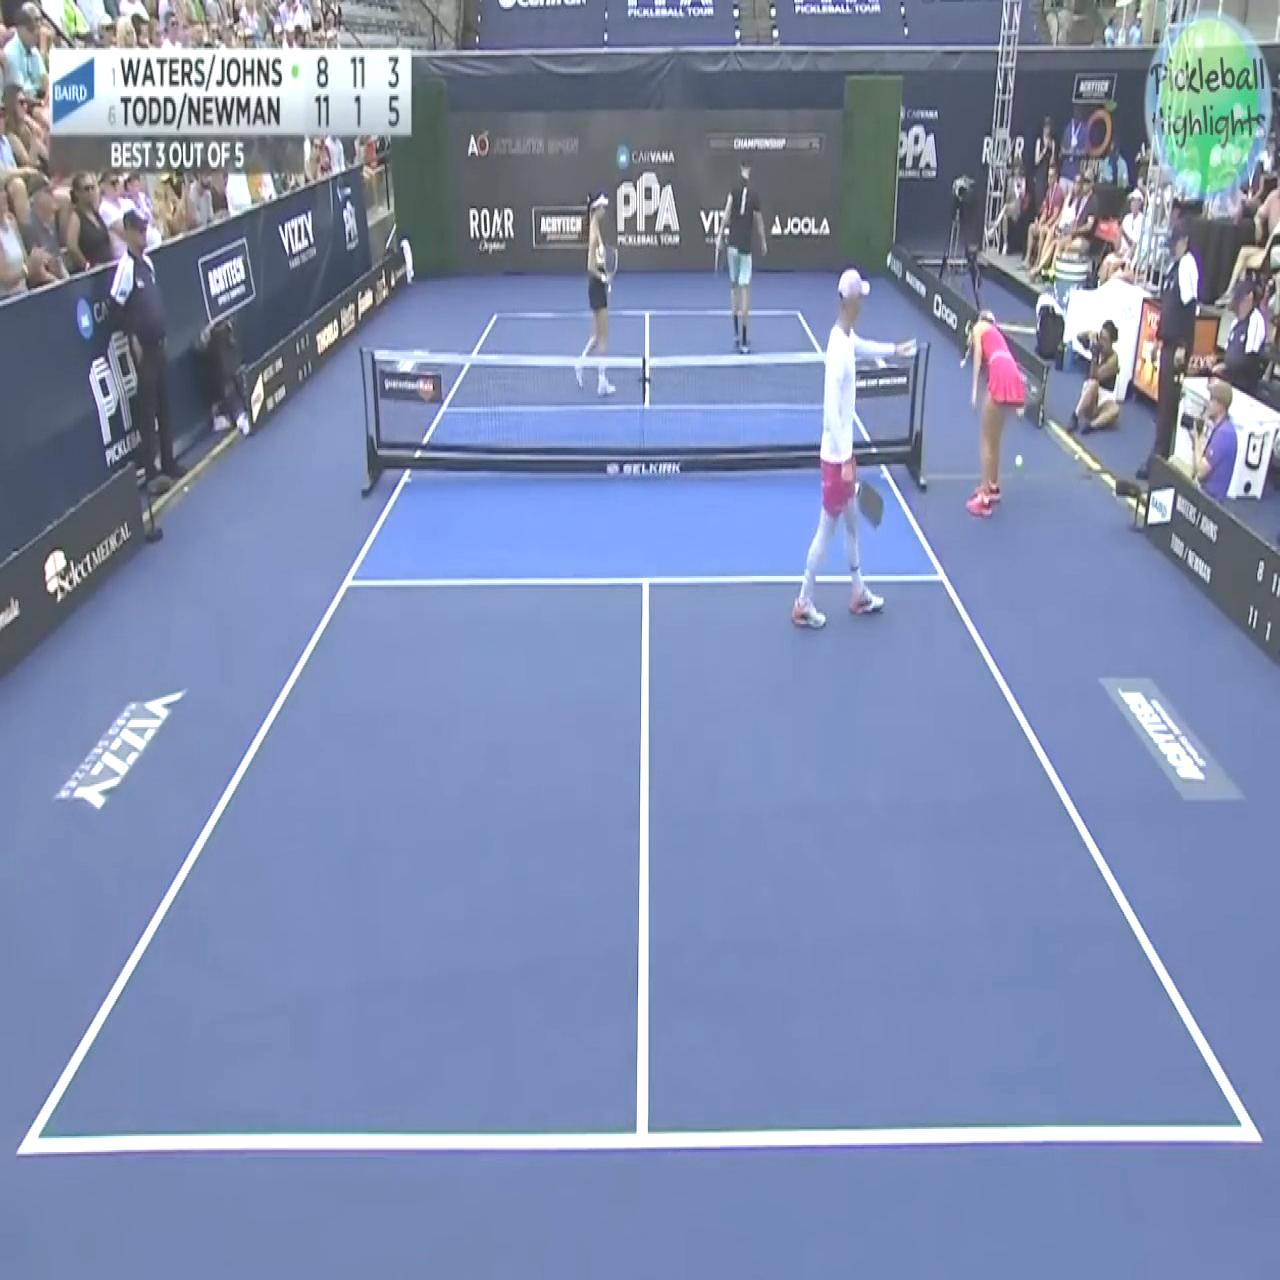Pickleball: (1012, 449, 1024, 475)
